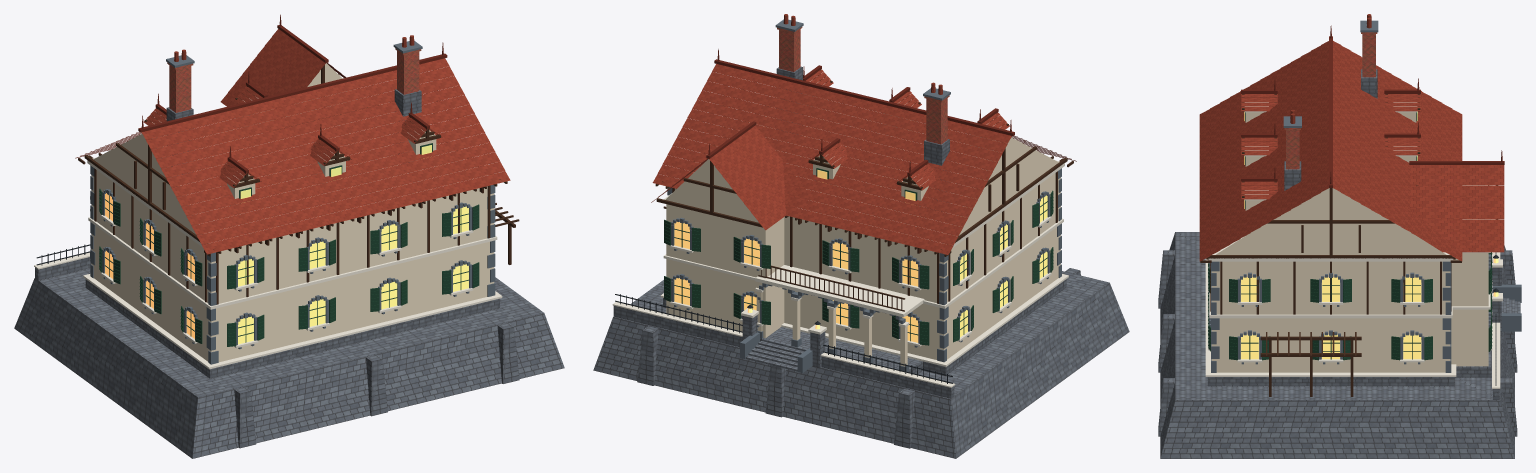
Rendered from fv_cl_10_chi_lang_la_cerise_french_villa_12.glb.
3 views of the same model, side by side, from view 1: azimuth 30°, elevation 25°; view 2: azimuth 150°, elevation 25°; view 3: azimuth 270°, elevation 25° (orthographic). The views are drawn at different scales.
Parts seen in each view (by area): view 1: Foundation_Skirt_Neg3p5m, Normandy_Brittany_Layered_Roof, Villa_Stucco_Walls, Molded_Cornices_And_Sills, PineGreen_Louvered_Shutters, Stone_Quoins_And_Arches, Exposed_Timber_Trusses_And_Rafters, Warm_Night_Windows_20h00_Blend, Roof_Ridges_Caps_And_Finials, Brick_Chimney_Stacks; view 2: Foundation_Skirt_Neg3p5m, Normandy_Brittany_Layered_Roof, Villa_Stucco_Walls, Molded_Cornices_And_Sills, Stone_Quoins_And_Arches, PineGreen_Louvered_Shutters, Exposed_Timber_Trusses_And_Rafters, Warm_Night_Windows_20h00_Blend, Roof_Ridges_Caps_And_Finials, Brick_Chimney_Stacks, Wrought_Iron_Balustrades_And_Gate; view 3: Normandy_Brittany_Layered_Roof, Foundation_Skirt_Neg3p5m, Villa_Stucco_Walls, Molded_Cornices_And_Sills, Exposed_Timber_Trusses_And_Rafters, Stone_Quoins_And_Arches, PineGreen_Louvered_Shutters, Warm_Night_Windows_20h00_Blend, Roof_Ridges_Caps_And_Finials, Brick_Chimney_Stacks.
Boxes of the visible parts, x1,y1,x2,y2 form: Foundation_Skirt_Neg3p5m: (14,89,564,458); Normandy_Brittany_Layered_Roof: (142,29,510,254); Villa_Stucco_Walls: (91,63,494,362); Molded_Cornices_And_Sills: (34,96,502,369); PineGreen_Louvered_Shutters: (99,143,479,346); Stone_Quoins_And_Arches: (90,41,495,364); Exposed_Timber_Trusses_And_Rafters: (78,65,519,304); Warm_Night_Windows_20h00_Blend: (105,145,468,344); Roof_Ridges_Caps_And_Finials: (75,14,447,181); Brick_Chimney_Stacks: (167,48,421,112); Foundation_Skirt_Neg3p5m: (593,66,1129,458); Normandy_Brittany_Layered_Roof: (652,14,1011,254); Villa_Stucco_Walls: (665,96,1060,366); Molded_Cornices_And_Sills: (612,80,1068,387); Stone_Quoins_And_Arches: (667,19,1061,373); PineGreen_Louvered_Shutters: (664,168,1053,345); Exposed_Timber_Trusses_And_Rafters: (655,69,1073,311); Warm_Night_Windows_20h00_Blend: (674,169,1047,342); Roof_Ridges_Caps_And_Finials: (651,49,1076,202); Brick_Chimney_Stacks: (777,27,949,144); Wrought_Iron_Balustrades_And_Gate: (615,294,952,383); Normandy_Brittany_Layered_Roof: (1199,14,1504,261); Foundation_Skirt_Neg3p5m: (1158,69,1520,458); Villa_Stucco_Walls: (1211,112,1488,372); Molded_Cornices_And_Sills: (1205,102,1502,388); Exposed_Timber_Trusses_And_Rafters: (1200,94,1497,396); Stone_Quoins_And_Arches: (1208,20,1521,372); PineGreen_Louvered_Shutters: (1208,112,1492,360); Warm_Night_Windows_20h00_Blend: (1241,111,1498,359); Roof_Ridges_Caps_And_Finials: (1241,25,1504,187); Brick_Chimney_Stacks: (1284,32,1377,169).
Size of the model in its own units: 26.32 by 20.4 by 21.93.
12 materials, 3 textured.
